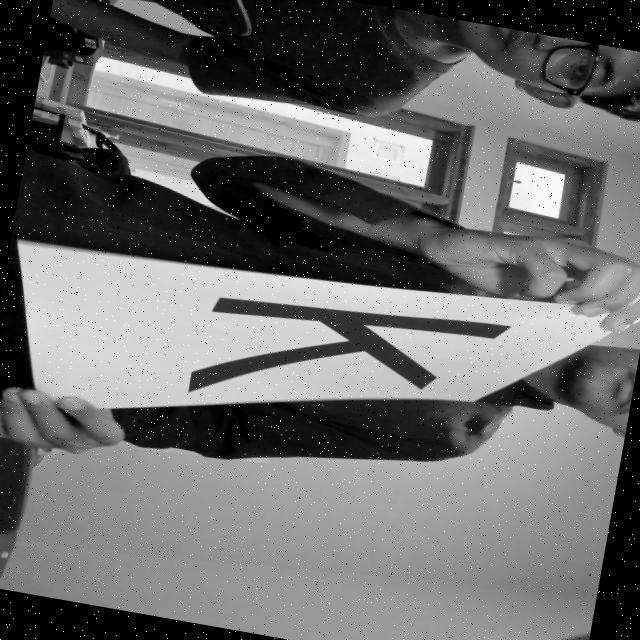k: (163, 253, 532, 452)
